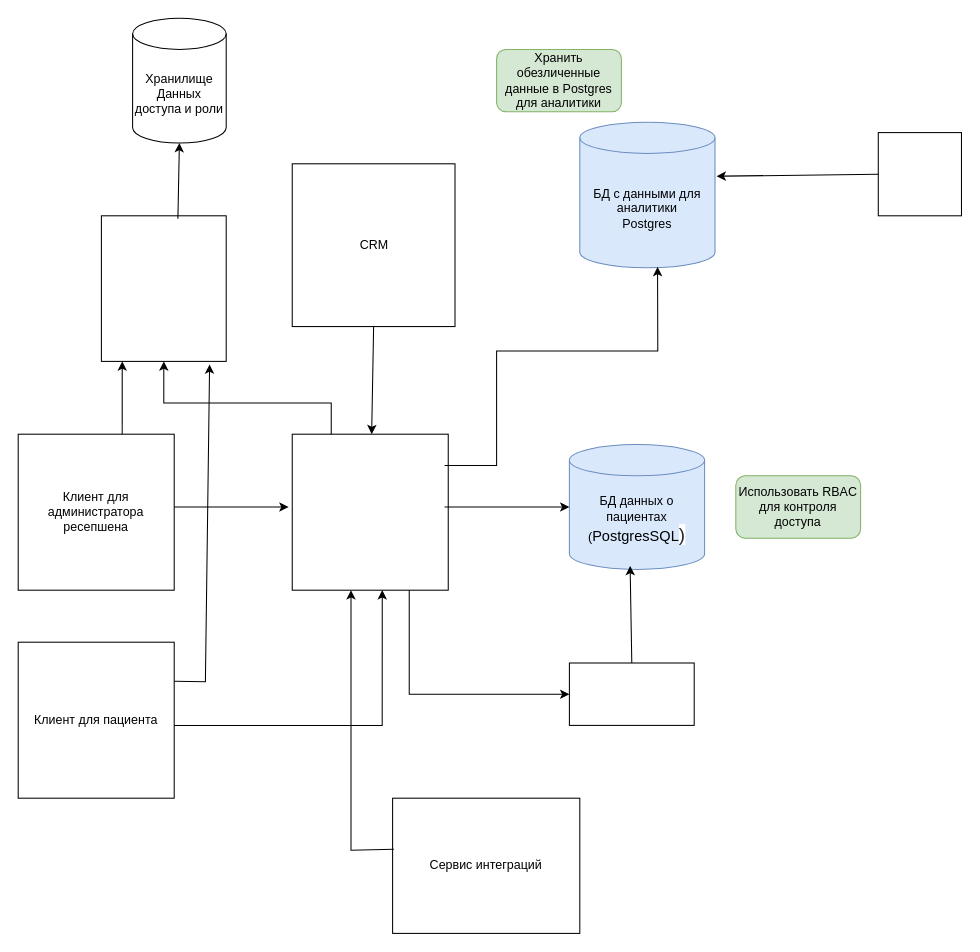
Some shapes in this 980 by 952 pixel diagram are drawn without their labels. Each missing label, with the centre of its shape:
"API (микросервисы, load balancer, Kubernetes)" goes at point (369, 511).
"BigID(для тегирования конфиденциальных данных)" goes at point (631, 693).
"Keycloak" goes at point (163, 288).
"ML" goes at point (919, 174).
